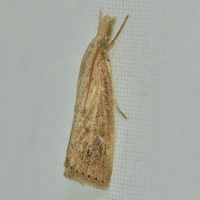insect: (64, 10, 128, 188)
